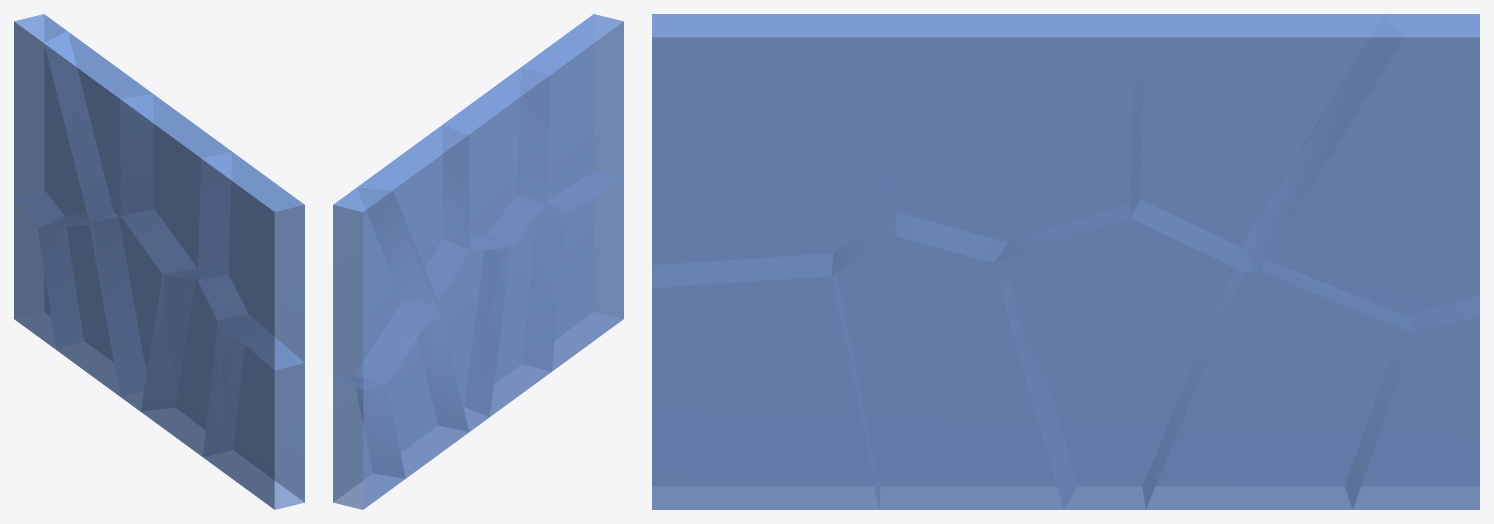
File: glass.fbx
3 views of the same model, side by side, from view 1: azimuth 30°, elevation 25°; view 2: azimuth 150°, elevation 25°; view 3: azimuth 270°, elevation 25° (orthographic). The views are drawn at different scales.
Parts seen in each view (by area): view 1: Wall_4m_glass1, Wall_4m_glass_FRAC4, Wall_4m_glass_FRAC3, Wall_4m_glass_FRAC8, Wall_4m_glass_FRAC1, Wall_4m_glass_FRAC7, Wall_4m_glass_FRAC9, Wall_4m_glass_FRAC5, Wall_4m_glass_FRAC6, Wall_4m_glass_FRAC2; view 2: Wall_4m_glass1, Wall_4m_glass_FRAC1, Wall_4m_glass_FRAC4, Wall_4m_glass_FRAC8, Wall_4m_glass_FRAC7, Wall_4m_glass_FRAC9, Wall_4m_glass_FRAC3, Wall_4m_glass_FRAC5, Wall_4m_glass_FRAC6, Wall_4m_glass_FRAC2; view 3: Wall_4m_glass1, Wall_4m_glass_FRAC4, Wall_4m_glass_FRAC8, Wall_4m_glass_FRAC7, Wall_4m_glass_FRAC5, Wall_4m_glass_FRAC3, Wall_4m_glass_FRAC1, Wall_4m_glass_FRAC9, Wall_4m_glass_FRAC6, Wall_4m_glass_FRAC2.
Part boxes in pixels (<box>): Wall_4m_glass1: <box>14,14,304,508</box>; Wall_4m_glass_FRAC4: <box>197,152,304,370</box>; Wall_4m_glass_FRAC3: <box>203,321,304,509</box>; Wall_4m_glass_FRAC8: <box>120,94,231,280</box>; Wall_4m_glass_FRAC1: <box>14,14,89,228</box>; Wall_4m_glass_FRAC7: <box>44,31,152,222</box>; Wall_4m_glass_FRAC9: <box>140,274,217,456</box>; Wall_4m_glass_FRAC5: <box>89,216,162,411</box>; Wall_4m_glass_FRAC6: <box>37,224,120,396</box>; Wall_4m_glass_FRAC2: <box>14,198,56,349</box>; Wall_4m_glass1: <box>333,14,623,508</box>; Wall_4m_glass_FRAC1: <box>333,187,438,388</box>; Wall_4m_glass_FRAC4: <box>522,14,623,213</box>; Wall_4m_glass_FRAC8: <box>443,67,550,250</box>; Wall_4m_glass_FRAC7: <box>357,125,469,302</box>; Wall_4m_glass_FRAC9: <box>490,203,566,416</box>; Wall_4m_glass_FRAC3: <box>552,180,623,371</box>; Wall_4m_glass_FRAC5: <box>438,248,511,431</box>; Wall_4m_glass_FRAC6: <box>354,306,468,478</box>; Wall_4m_glass_FRAC2: <box>333,377,405,509</box>; Wall_4m_glass1: <box>652,14,1479,509</box>; Wall_4m_glass_FRAC4: <box>652,14,894,287</box>; Wall_4m_glass_FRAC8: <box>883,14,1143,262</box>; Wall_4m_glass_FRAC7: <box>1130,14,1404,272</box>; Wall_4m_glass_FRAC5: <box>993,218,1243,509</box>; Wall_4m_glass_FRAC3: <box>652,276,878,509</box>; Wall_4m_glass_FRAC1: <box>1259,14,1479,333</box>; Wall_4m_glass_FRAC9: <box>831,236,1063,509</box>; Wall_4m_glass_FRAC6: <box>1146,270,1414,509</box>; Wall_4m_glass_FRAC2: <box>1353,315,1479,509</box>.
Bounding box in the file's own units: 20 × 189 × 300.
